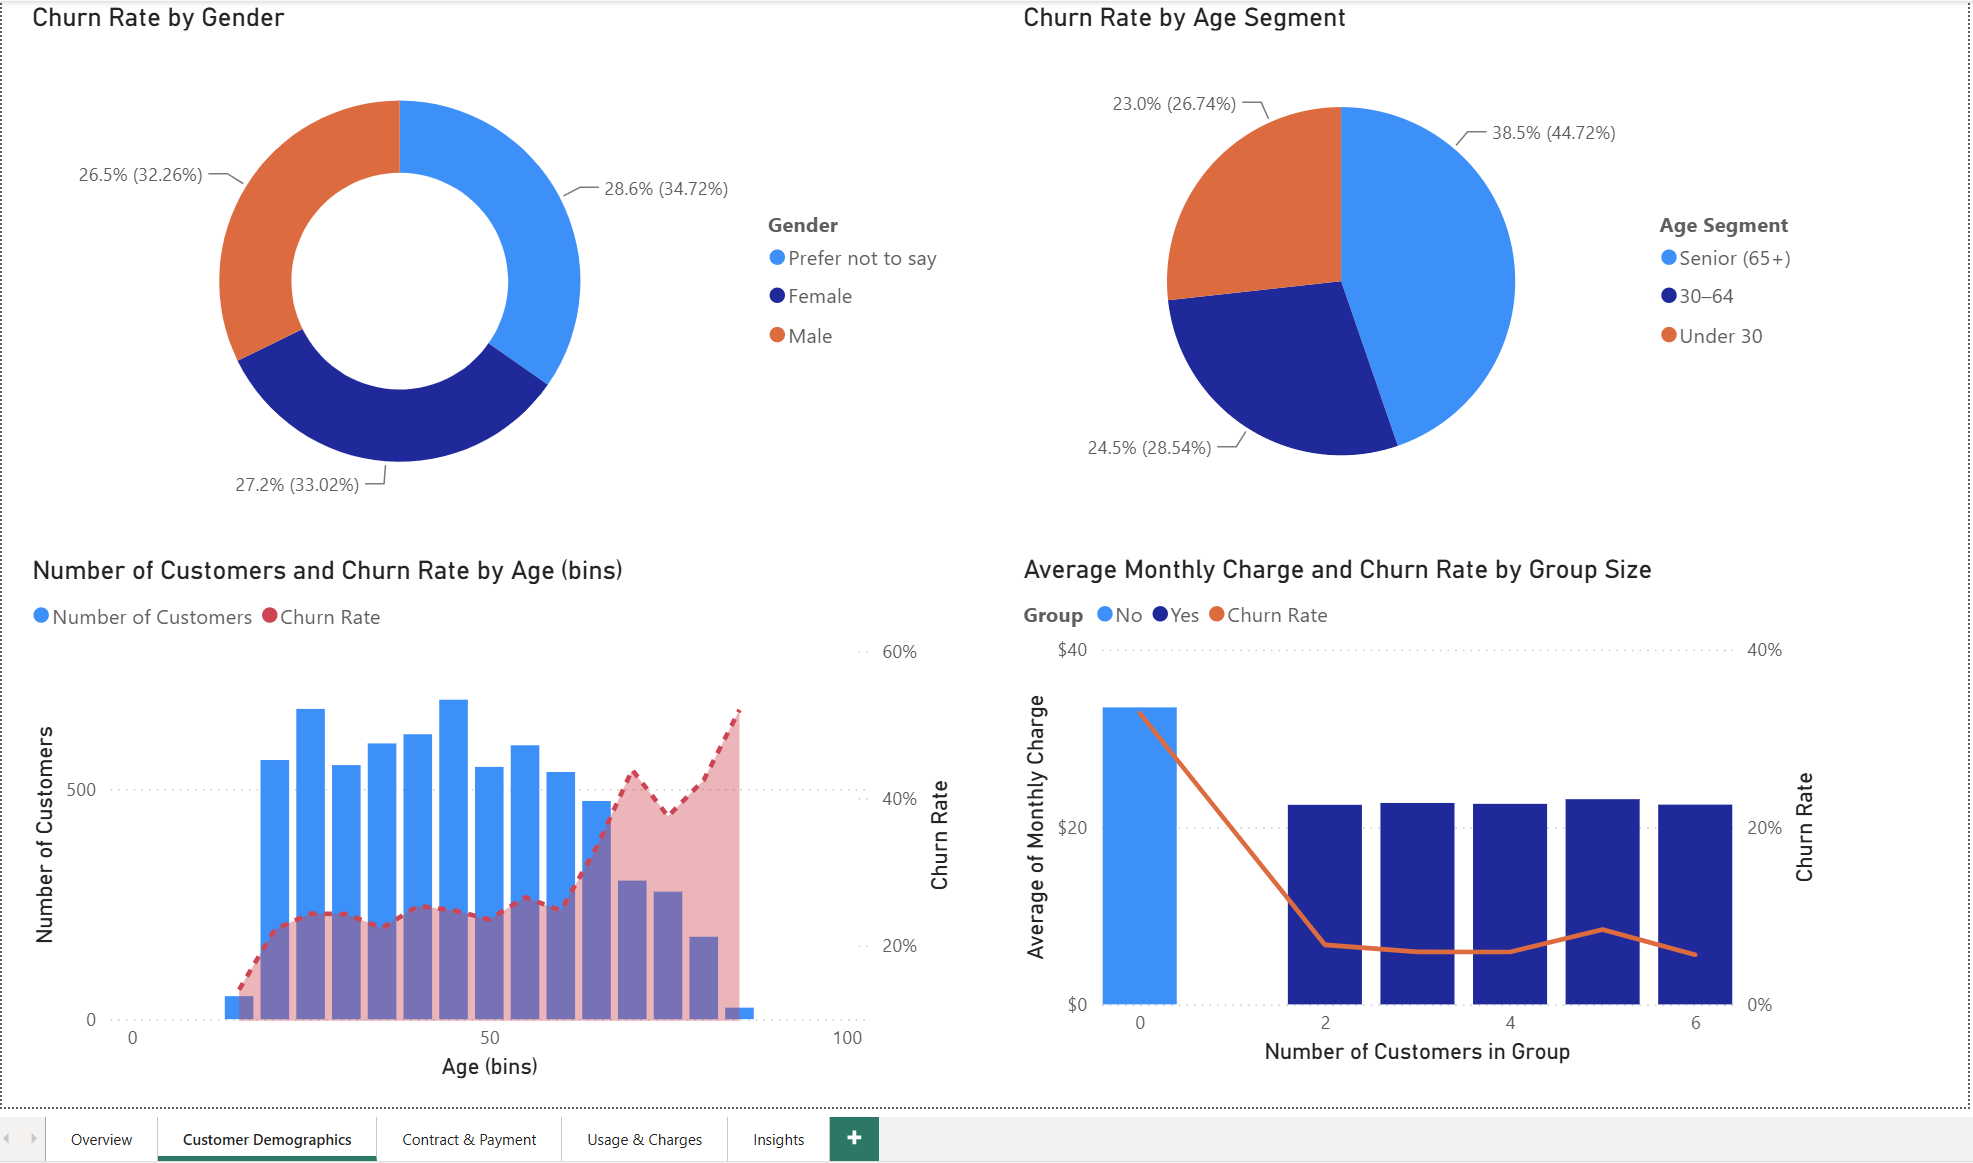

The dashboard page shown, as its layout file describes it:
{"tool":"powerbi","page":{"name":"Customer Demographics","canvas":[1280,720],"ordinal":1},"visuals":[{"type":"lineStackedColumnComboChart","fields":{"Category":["Databel - Data.Age (bins)"],"Y":["Databel - Data.Number of costumers"],"Y2":["Databel - Data.Churn Rate"]},"box":[14.7,360.7,608.6,346.1],"z":0},{"type":"donutChart","fields":{"Category":["Databel - Data.Gender"],"Y":["Databel - Data.Churn Rate"]},"box":[15,0,609,346],"z":1000},{"type":"lineStackedColumnComboChart","title":"Average Monthly Charge and Churn Rate by Group Size","fields":{"Category":["Databel - Data.Number of Customers in Group"],"Series":["Databel - Data.Group"],"Y":["Avg(Databel - Data.Monthly Charge)"],"Y2":["Databel - Data.Churn Rate"]},"box":[660,359.7,526.4,337.3],"z":2000},{"type":"pieChart","fields":{"Category":["Databel - Data.Age Segment"],"Y":["Databel - Data.Churn Rate"]},"box":[660,0,526,346],"z":3000}]}

Visuals, with their boxes on the page's 1280x720 design canvas (x1, y1, x2, y2). These are canvas units, not pixel positions in the 1973x1163 screenshot, which may show the page scaled, cropped or inside an application window:
lineStackedColumnComboChart - Databel - Data.Age (bins) x Databel - Data.Number of costumers: [left=15, top=361, right=623, bottom=707]
donutChart - Databel - Data.Gender x Databel - Data.Churn Rate: [left=15, top=0, right=624, bottom=346]
"Average Monthly Charge and Churn Rate by Group Size" lineStackedColumnComboChart: [left=660, top=360, right=1186, bottom=697]
pieChart - Databel - Data.Age Segment x Databel - Data.Churn Rate: [left=660, top=0, right=1186, bottom=346]
